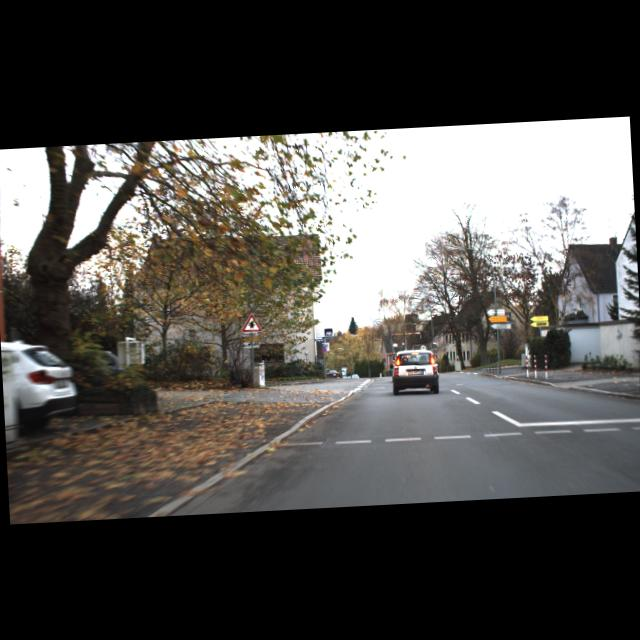danger: (240, 312, 262, 332)
